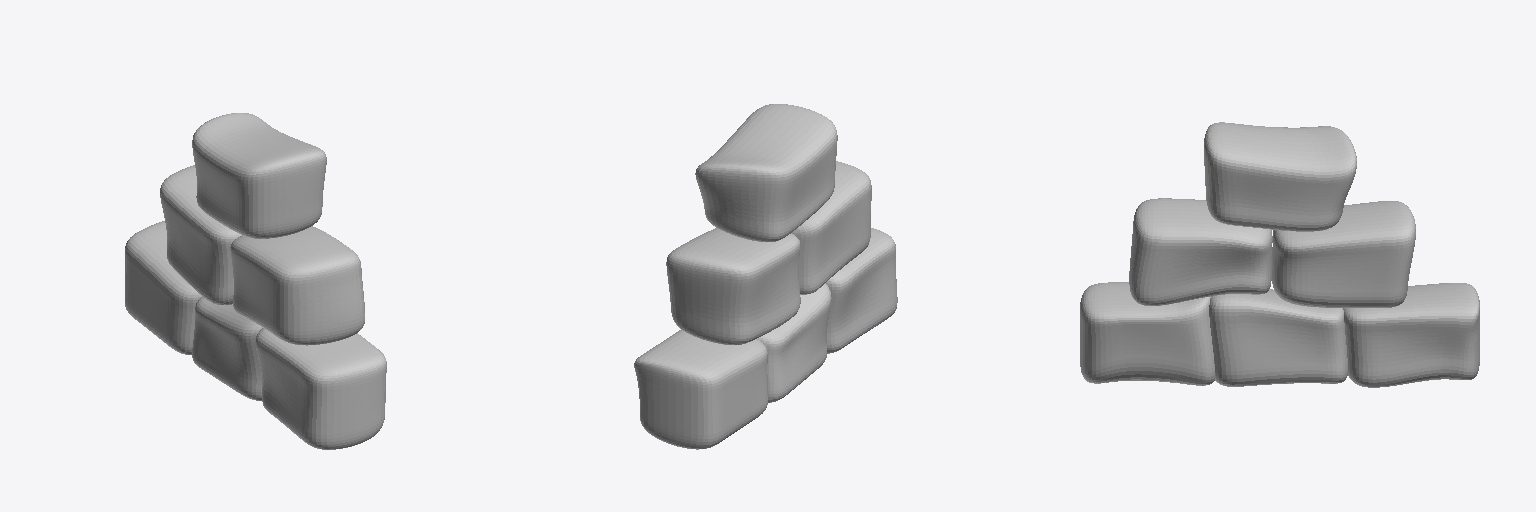
The model's file is Kamen.obj.
3 renders of one model, left to right at view 1: azimuth 30°, elevation 25°; view 2: azimuth 150°, elevation 25°; view 3: azimuth 270°, elevation 25°, orthographic.
Visible parts, largest first — view 1: Cube; view 2: Cube; view 3: Cube.
Boxes of the visible parts, <box> form: Cube: <box>125,113,386,449</box>; Cube: <box>634,104,897,449</box>; Cube: <box>1080,122,1479,387</box>.
Size of the model in its own units: 2.02 by 5.62 by 8.26.